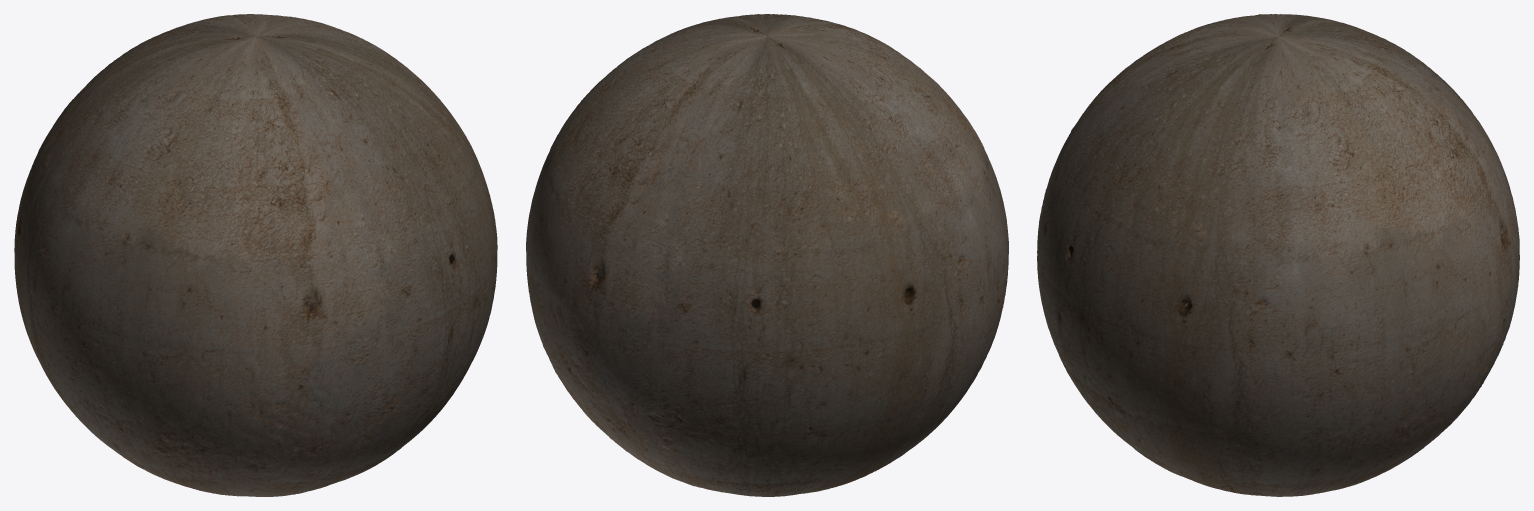
Rendered from concrete_wall_006_4k.gltf.
3 renders of one model, left to right at view 1: azimuth 30°, elevation 25°; view 2: azimuth 150°, elevation 25°; view 3: azimuth 270°, elevation 25°, orthographic.
Parts seen in each view (by area): view 1: sphere_gltf; view 2: sphere_gltf; view 3: sphere_gltf.
Part boxes in pixels (bbox=[...]): sphere_gltf: bbox=[14, 14, 497, 496]; sphere_gltf: bbox=[526, 14, 1008, 496]; sphere_gltf: bbox=[1037, 14, 1519, 496].
Bounding box in the file's own units: 2.03 × 2.04 × 2.03.
Materials: 1 (1 with a texture image).
